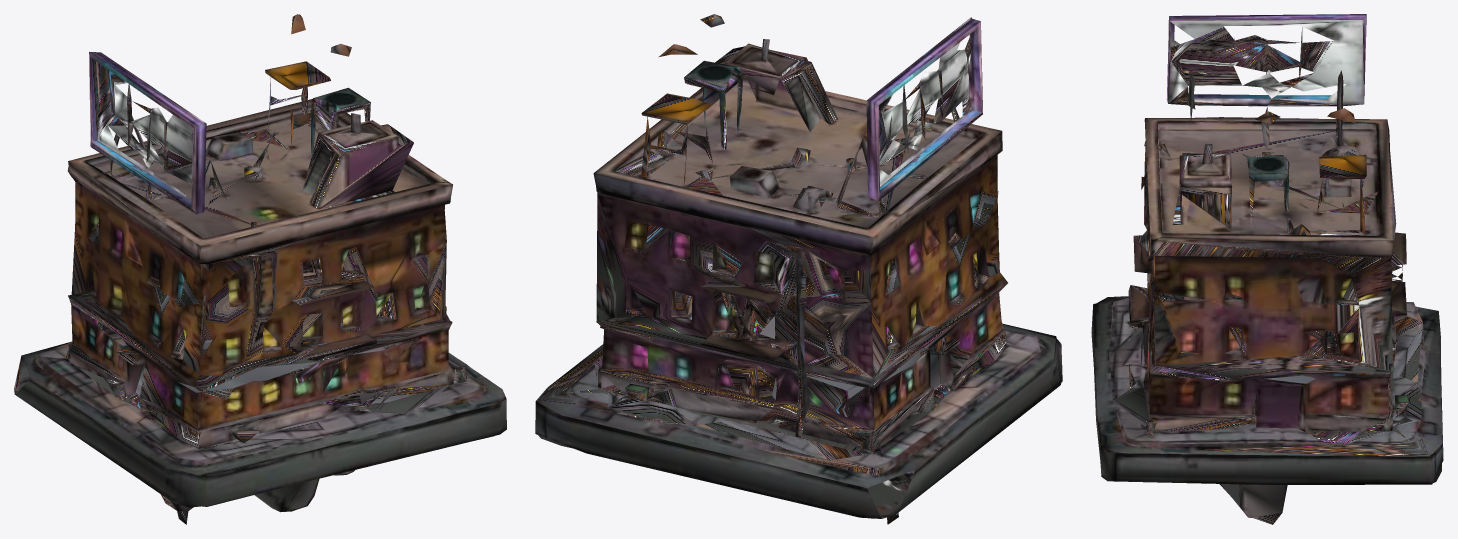
The model's file is tower-d-lite.glb.
3 views of the same model, side by side, from view 1: azimuth 30°, elevation 25°; view 2: azimuth 150°, elevation 25°; view 3: azimuth 270°, elevation 25° (orthographic). The views are drawn at different scales.
Visible parts, largest first — view 1: geometry_0; view 2: geometry_0; view 3: geometry_0.
Boxes of the visible parts, x1,y1,x2,y2 form: geometry_0: (14, 14, 506, 524); geometry_0: (535, 14, 1062, 524); geometry_0: (1091, 14, 1443, 524).
Size of the model in its own units: 0.6778 by 0.8647 by 0.6366.
1 material, 1 textured.
